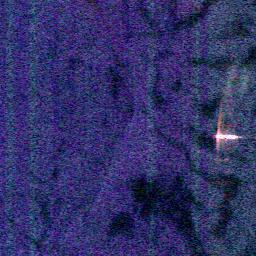Ship: (209, 130, 241, 141)
